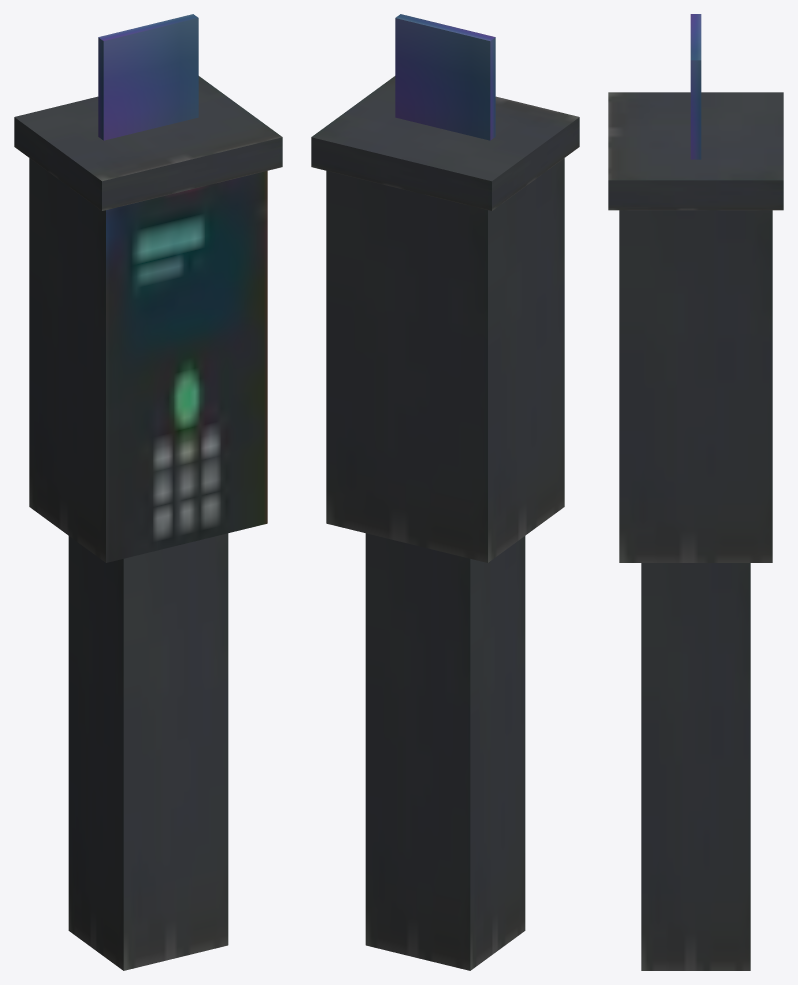
The model's file is horodateur_lod2.glb.
3 renders of one model, left to right at view 1: azimuth 30°, elevation 25°; view 2: azimuth 150°, elevation 25°; view 3: azimuth 270°, elevation 25°, orthographic.
Visible parts, largest first — view 1: horodateur; view 2: horodateur; view 3: horodateur.
Part boxes in pixels (<box>): horodateur: <box>14,14,282,970</box>; horodateur: <box>311,14,579,970</box>; horodateur: <box>608,14,783,970</box>.
Size of the model in its own units: 0.38 by 1.83 by 0.32.
Materials: 1 (1 with a texture image).
